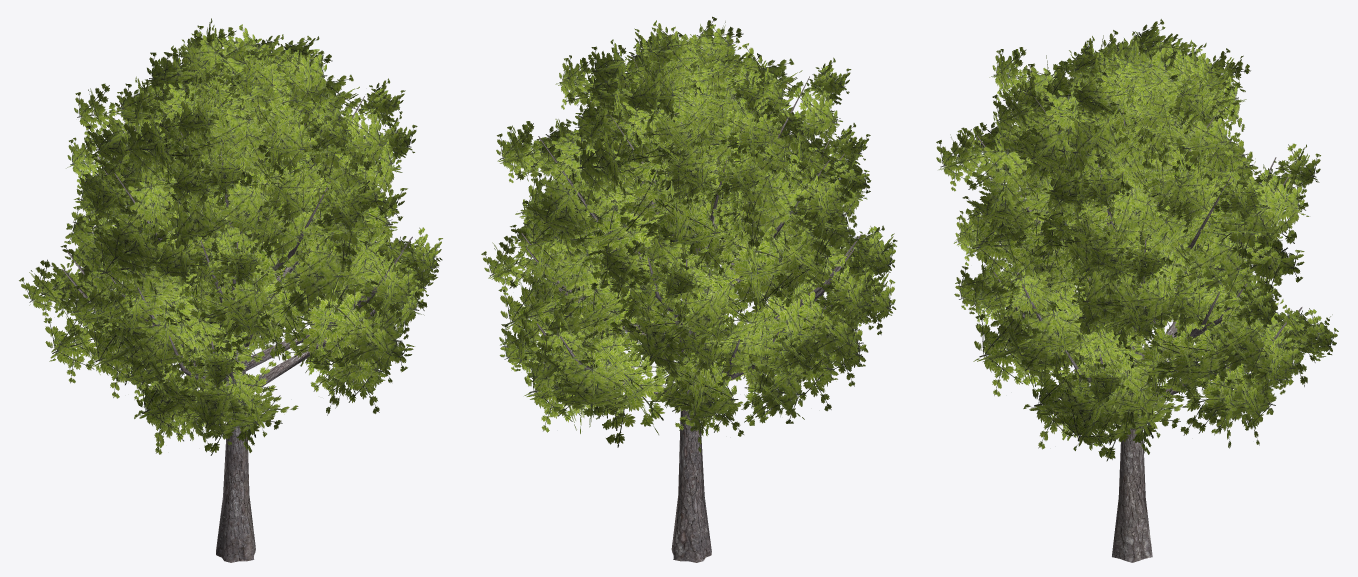
Rendered from tree4.glb.
The picture shows the model from 3 angles, left to right: view 1: azimuth 30°, elevation 25°; view 2: azimuth 150°, elevation 25°; view 3: azimuth 270°, elevation 25°; orthographic projection.
Visible parts, largest first — view 1: tree6_leaves_0, tree6_bark_0; view 2: tree6_leaves_0, tree6_bark_0; view 3: tree6_leaves_0, tree6_bark_0.
Boxes of the visible parts, bbox=[...] form: tree6_leaves_0: bbox=[19, 18, 442, 455]; tree6_bark_0: bbox=[62, 96, 412, 562]; tree6_leaves_0: bbox=[481, 16, 897, 452]; tree6_bark_0: bbox=[521, 54, 861, 562]; tree6_leaves_0: bbox=[936, 19, 1338, 461]; tree6_bark_0: bbox=[977, 62, 1302, 562].
Size of the model in its own units: 0.7312 by 1 by 0.7171.
Materials: 2 (2 with a texture image).
